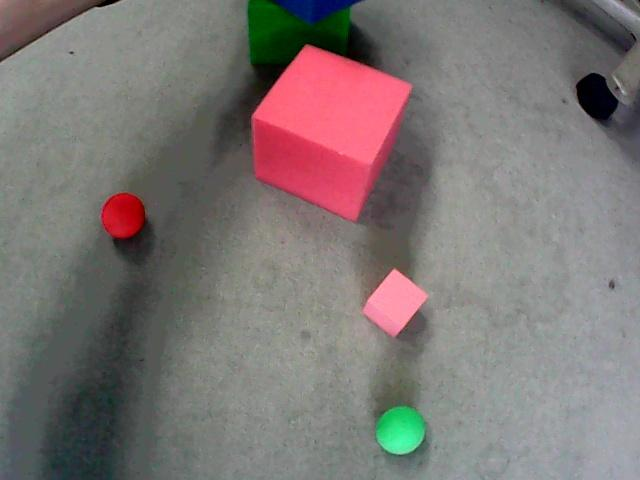blue_block: (273, 0, 361, 23)
red_block: (252, 45, 411, 220), (363, 269, 427, 336)
